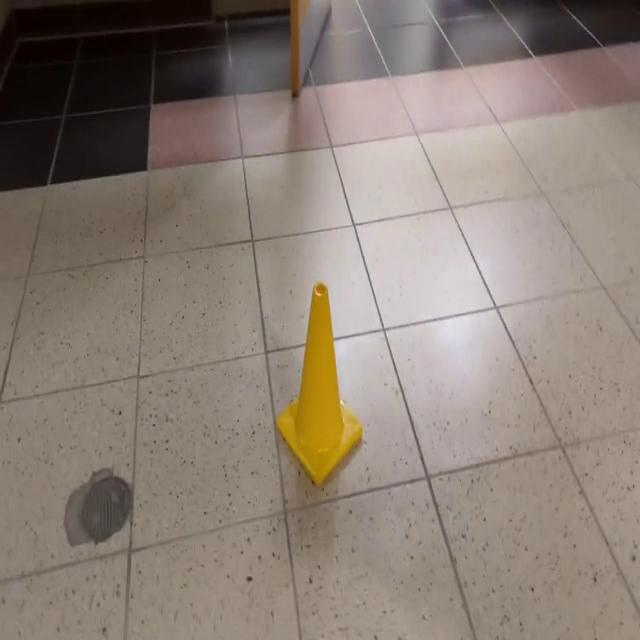frc_cone: (261, 262, 369, 495)
